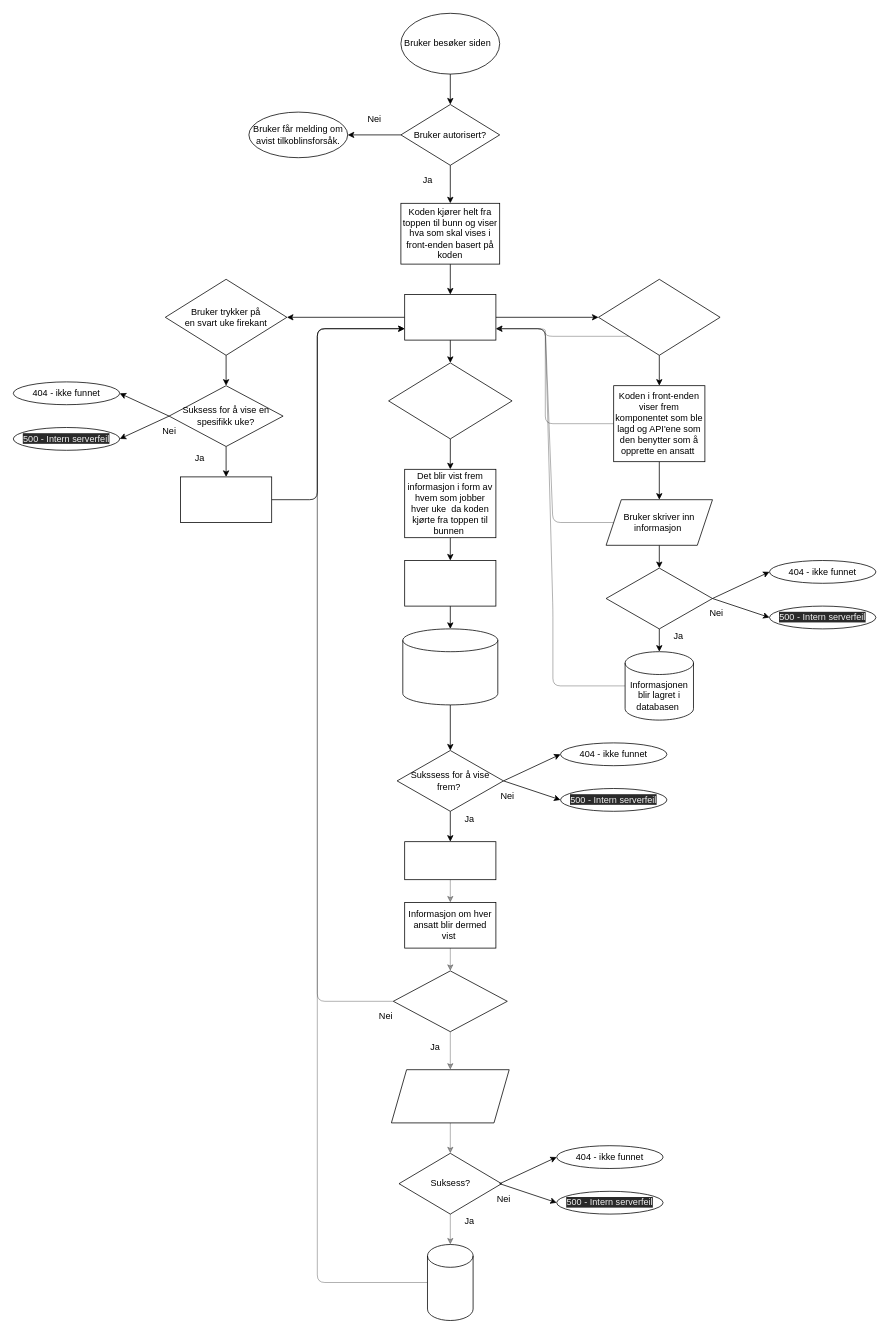
Image size: 889x1334. Some labels were removed from this diagram. The shapes that lost their labels are listed below. From the top down, each one's centre as x and y in pixels, then its label:
(x=450, y=317): Brukeren er på forsiden
(x=659, y=317): Bruker besøker localhost/employees/new
(x=450, y=400): Bruker trykker på en av ukene nede for å se informasjon
(x=226, y=499): Informasjon om spesifikk uke blir vist
(x=450, y=583): Brukeren trykker på en tifeldig ansatt navn
(x=658, y=598): Suksess for å lage navn og dager?
(x=450, y=666): Koden går i employees for å finne den spesifikke ansatte gjennom id
(x=450, y=860): 200 - Indikerer at forespørselen har lyktes.
(x=450, y=1001): Oppdatere ansatt navn?
(x=450, y=1096): Bruker skriver inn navn til ansatte for å oppdatere
(x=450, y=1282): Navn har blitt endret og oppdatert
